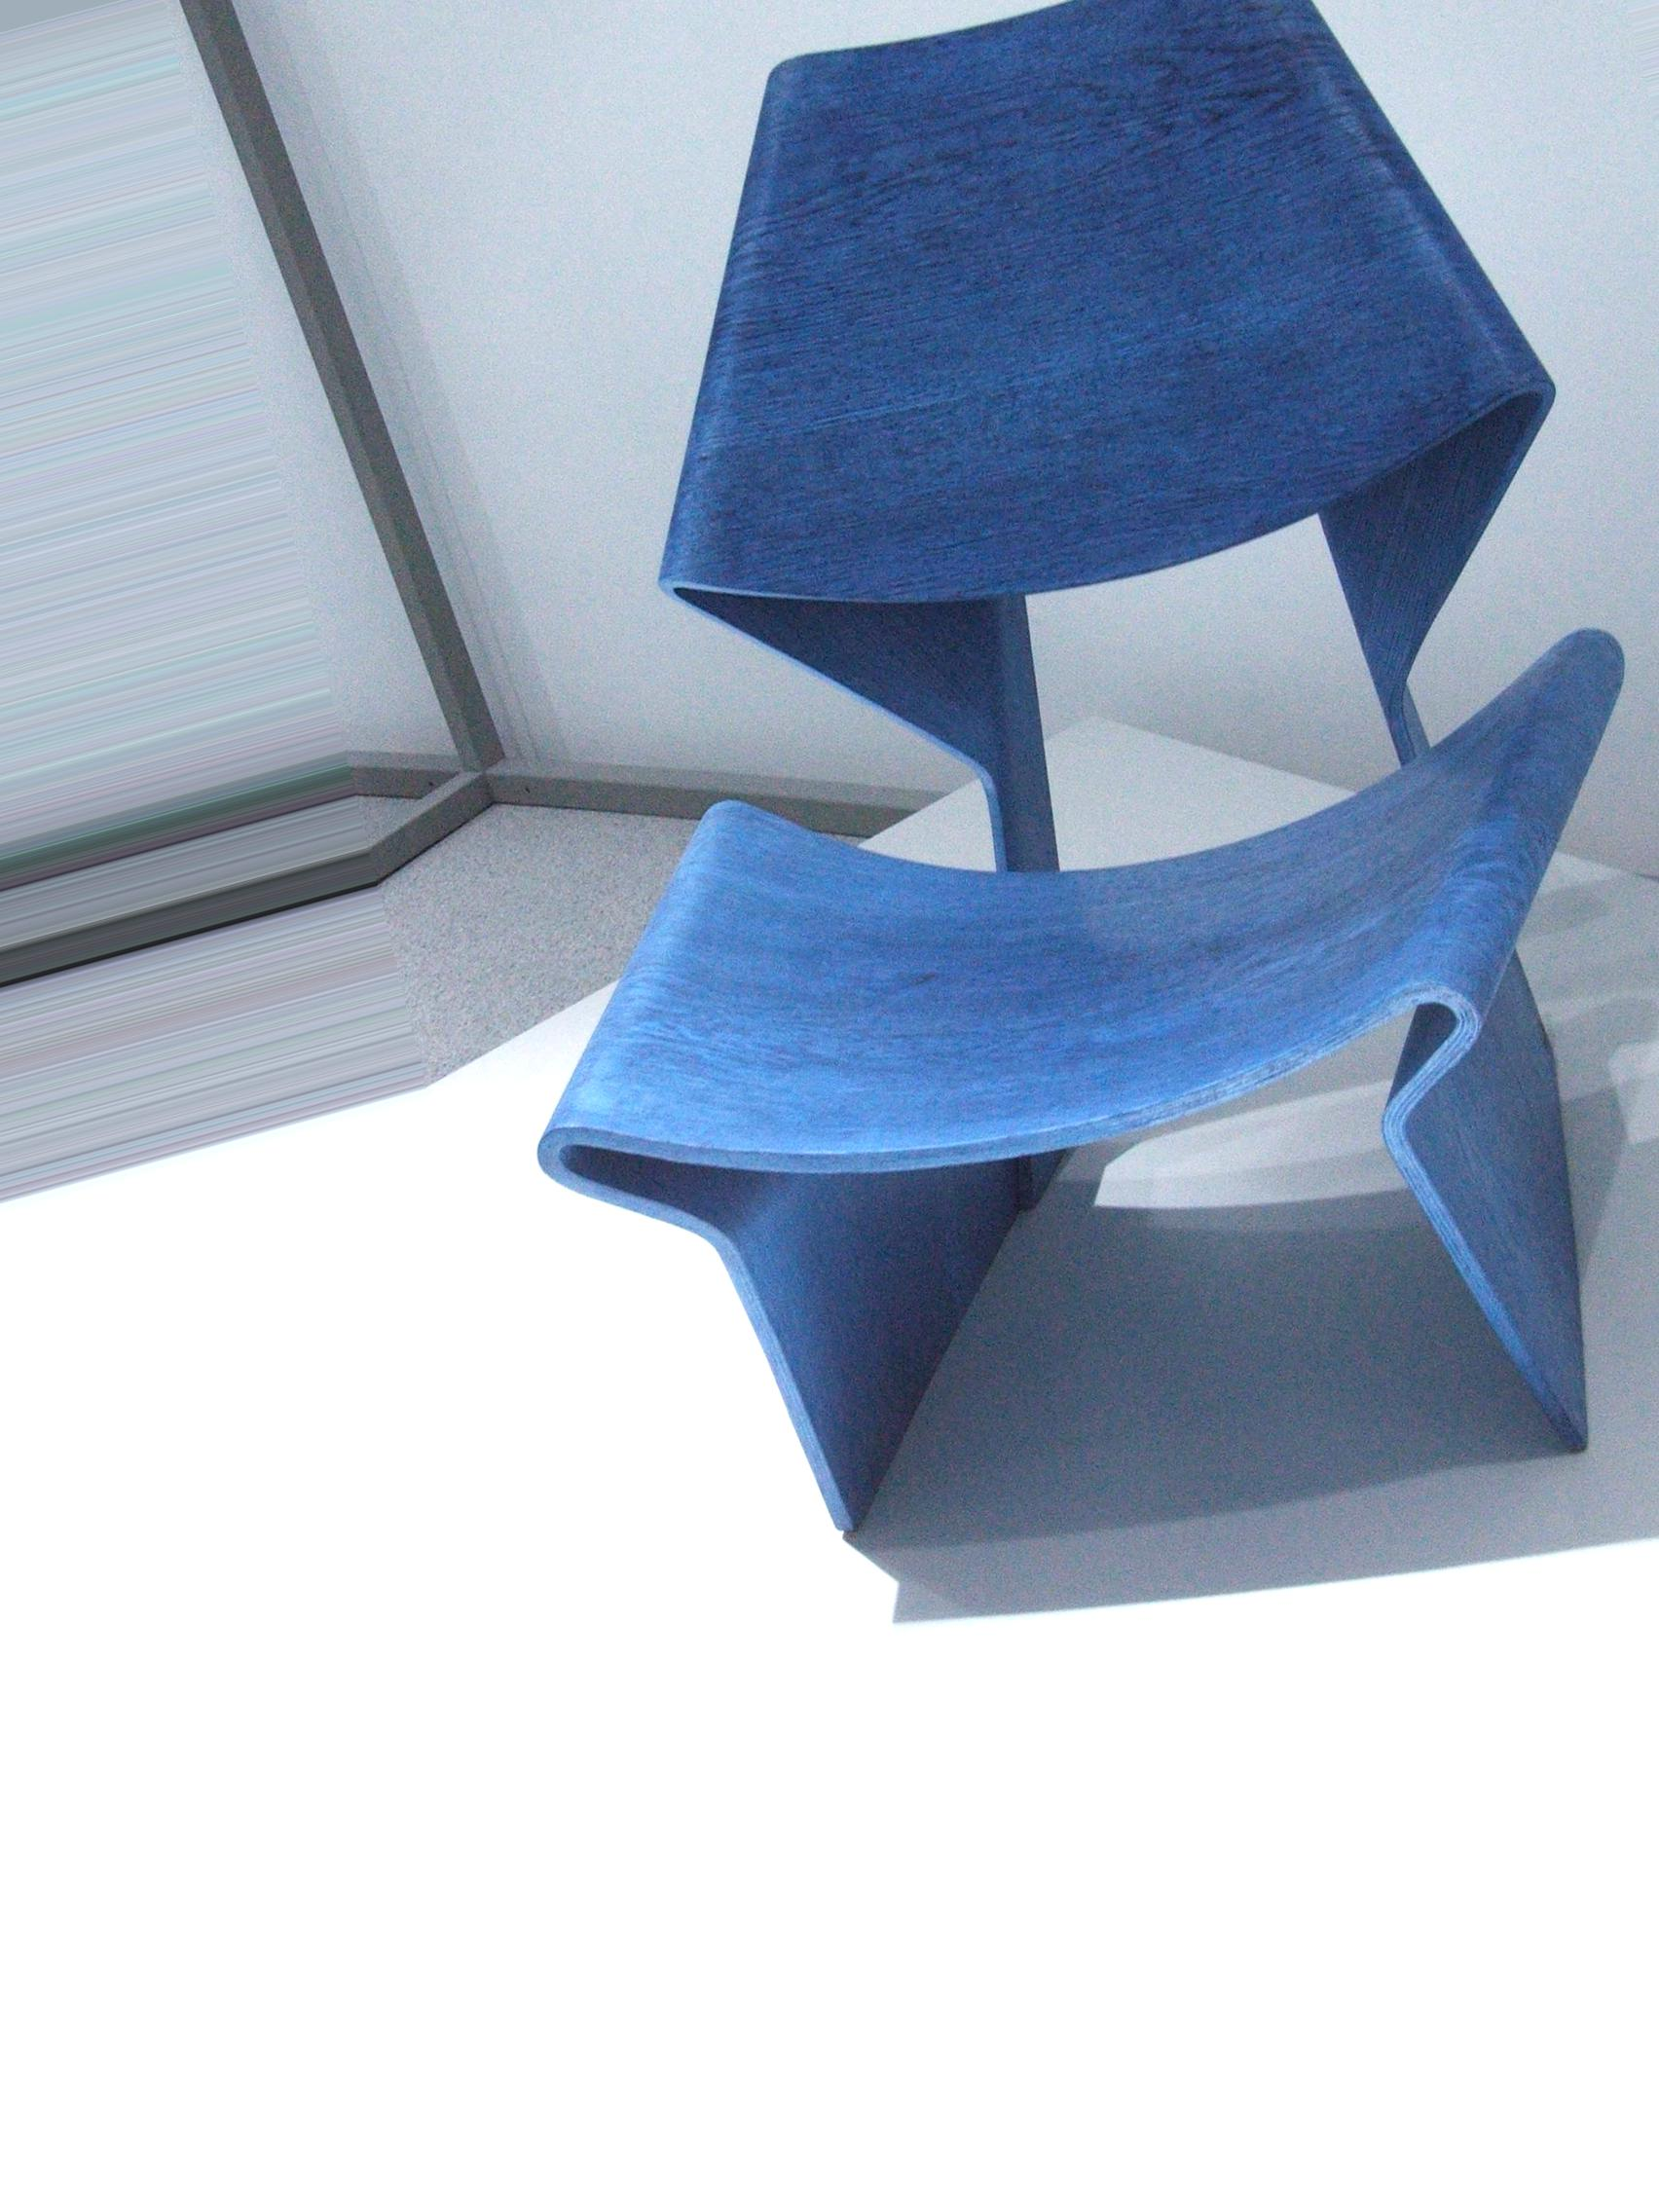chair: (538, 9, 1659, 1540)
